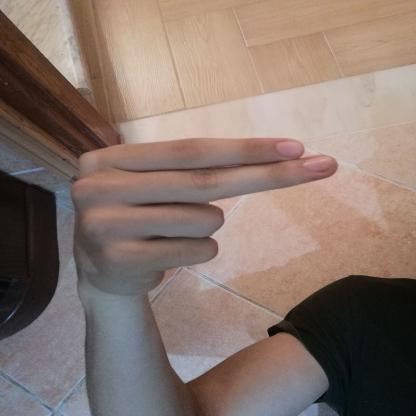AYN: (46, 117, 361, 311)
